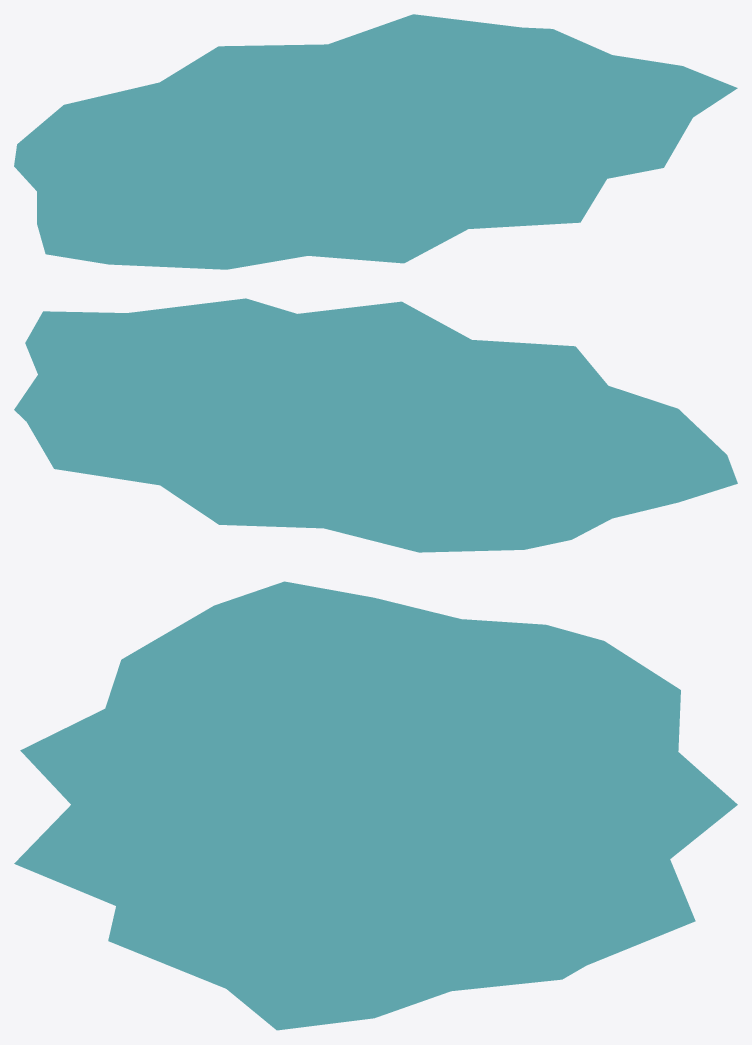
The model's file is lake_patch.glb.
The picture shows the model from 3 angles, top to bottom: view 1: azimuth 30°, elevation 25°; view 2: azimuth 150°, elevation 25°; view 3: azimuth 270°, elevation 25°; orthographic projection. The views are drawn at different scales.
Parts seen in each view (by area): view 1: water; view 2: water; view 3: water.
Boxes of the visible parts, x1=… form: water: x1=14, y1=14, x2=737, y2=269; water: x1=14, y1=298, x2=737, y2=552; water: x1=14, y1=581, x2=737, y2=1030.
Bounding box in the file's own units: 6.31 × 0 × 4.3.
